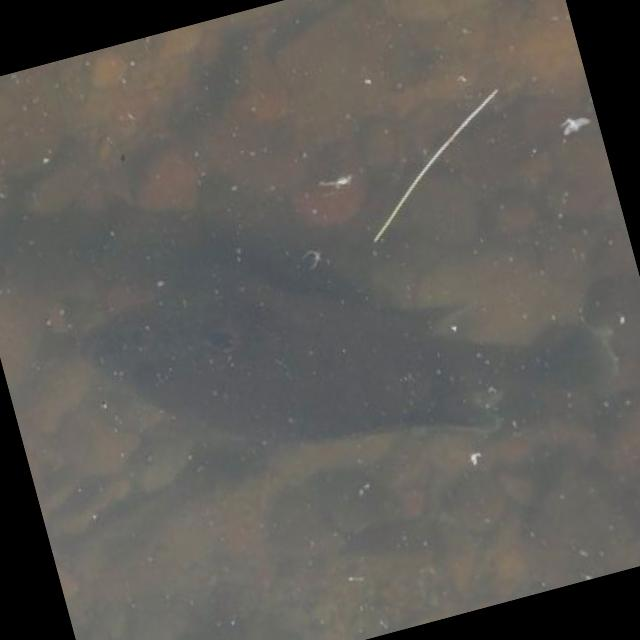Gunes Levregi: (52, 119, 638, 545)
